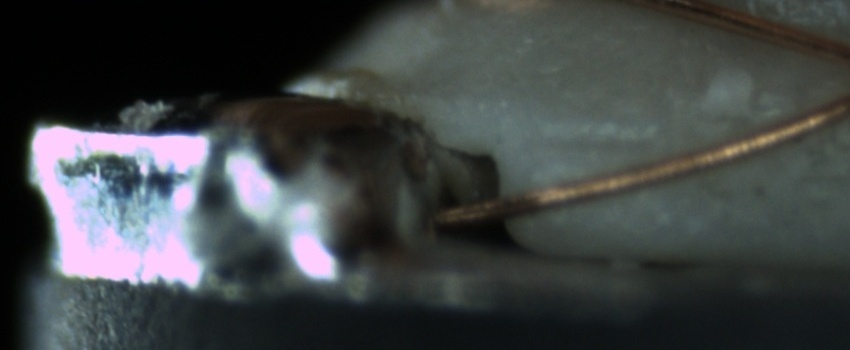DL: (535, 110, 666, 171)
